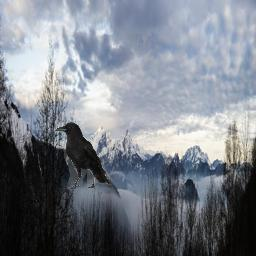Crow: (54, 122, 111, 190)
